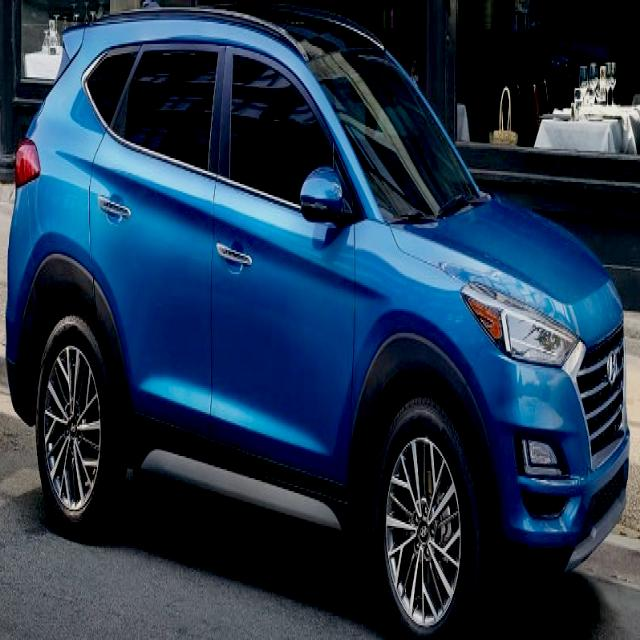blue: (3, 15, 640, 621)
